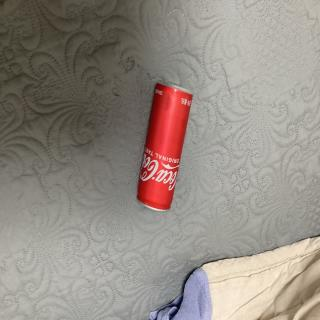cocacola: (134, 73, 193, 220)
